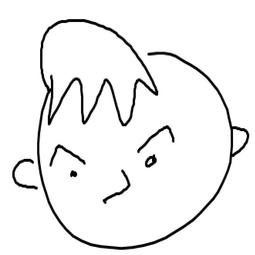ear: (12, 155, 38, 193), (227, 117, 251, 157)
eyebrow: (135, 118, 175, 151), (47, 142, 88, 167)
pointy_nose: (101, 165, 133, 211)
small_eye: (141, 151, 159, 169), (68, 168, 79, 178)
